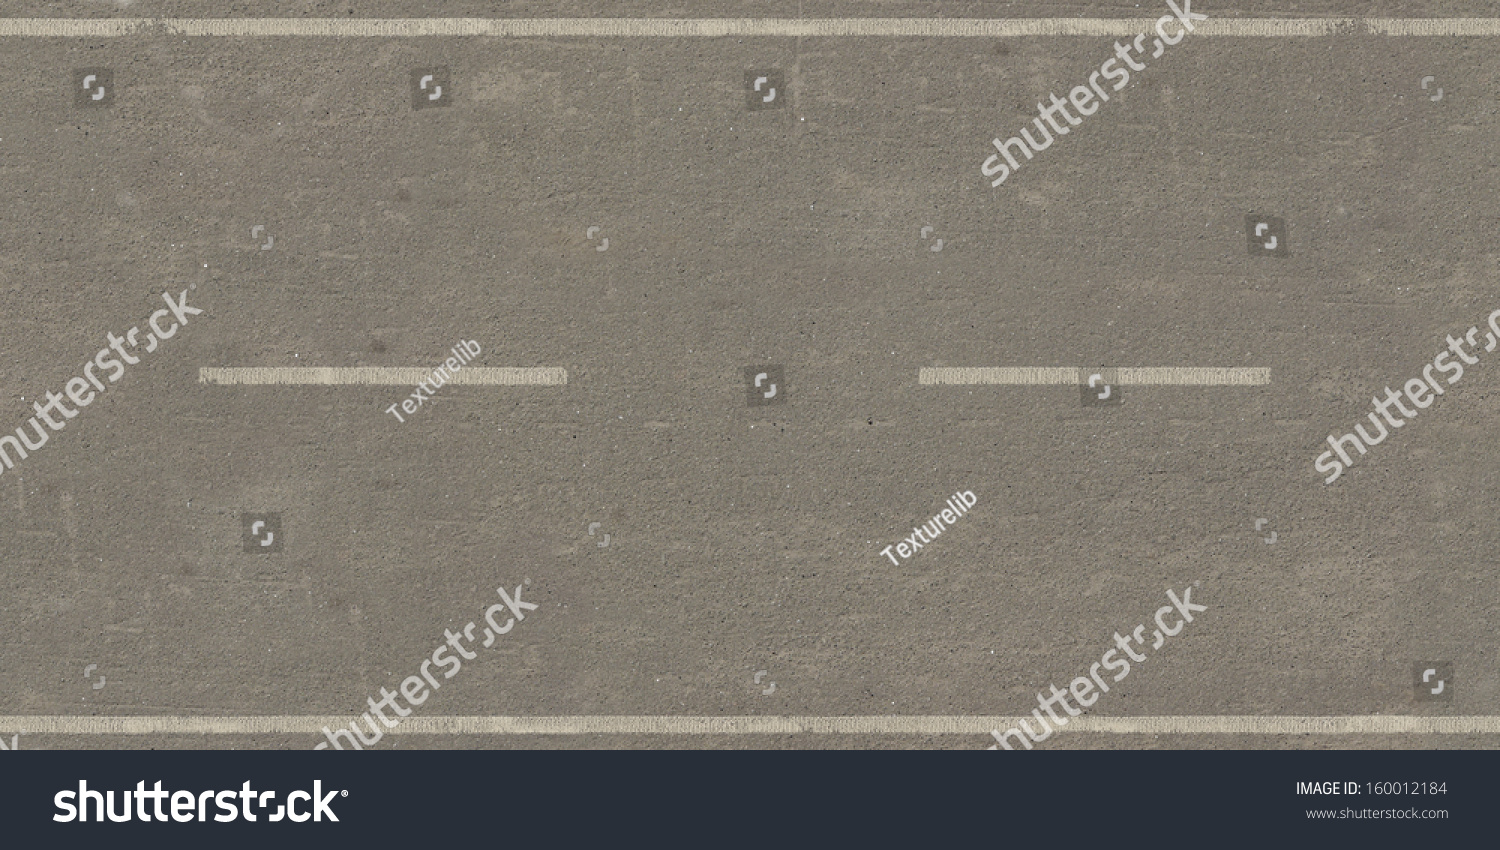LaneMark: (1, 710, 1500, 742), (1, 18, 1495, 36), (915, 364, 1276, 394), (194, 365, 570, 393)
